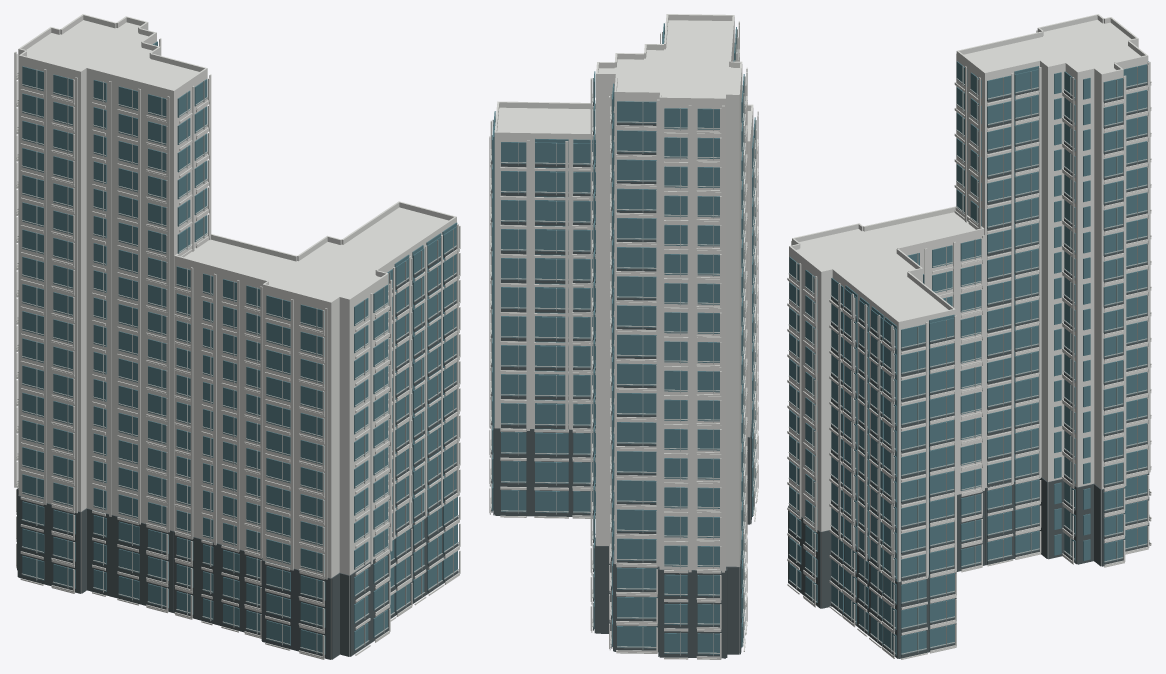
The model's file is bespoke-acro-riverpark-108.glb.
3 views of the same model, side by side, from view 1: azimuth 30°, elevation 25°; view 2: azimuth 150°, elevation 25°; view 3: azimuth 270°, elevation 25° (orthographic). The views are drawn at different scales.
Visible parts, largest first — view 1: 108_R00_glass, 108_R01_body, 108_R01_glass, 108_R00_body, 108_R00_white, 108_R01_white, 108_R00_dark, 108_R00_frame, 108_R01_frame, 108_R01_dark; view 2: 108_R01_glass, 108_R01_body, 108_R00_glass, 108_R01_white, 108_R00_white, 108_R00_body, 108_R01_dark, 108_R01_frame, 108_R00_dark, 108_R00_frame; view 3: 108_R01_glass, 108_R00_glass, 108_R01_body, 108_R00_white, 108_R00_body, 108_R01_white, 108_R01_dark, 108_R00_dark, 108_R00_frame, 108_R01_frame.
Part boxes in pixels (bbox=[...]): 108_R00_glass: bbox=[176, 222, 457, 654]; 108_R01_body: bbox=[18, 20, 207, 592]; 108_R01_glass: bbox=[22, 41, 207, 607]; 108_R00_body: bbox=[174, 207, 456, 659]; 108_R00_white: bbox=[174, 201, 460, 659]; 108_R01_white: bbox=[14, 14, 211, 613]; 108_R00_dark: bbox=[173, 247, 458, 659]; 108_R00_frame: bbox=[176, 229, 458, 654]; 108_R01_frame: bbox=[17, 44, 207, 607]; 108_R01_dark: bbox=[17, 488, 173, 612]; 108_R01_glass: bbox=[593, 23, 744, 654]; 108_R01_body: bbox=[596, 20, 742, 652]; 108_R00_glass: bbox=[492, 111, 755, 516]; 108_R01_white: bbox=[590, 14, 747, 659]; 108_R00_white: bbox=[489, 101, 758, 521]; 108_R00_body: bbox=[494, 107, 753, 523]; 108_R01_dark: bbox=[593, 102, 741, 658]; 108_R01_frame: bbox=[592, 29, 745, 655]; 108_R00_dark: bbox=[491, 160, 752, 524]; 108_R00_frame: bbox=[491, 119, 756, 515]; 108_R01_glass: bbox=[956, 61, 1148, 563]; 108_R00_glass: bbox=[789, 238, 981, 655]; 108_R01_body: bbox=[956, 19, 1148, 565]; 108_R00_white: bbox=[787, 206, 984, 659]; 108_R00_body: bbox=[789, 212, 984, 658]; 108_R01_white: bbox=[954, 14, 1151, 567]; 108_R01_dark: bbox=[985, 83, 1149, 566]; 108_R00_dark: bbox=[788, 296, 984, 658]; 108_R00_frame: bbox=[788, 239, 981, 654]; 108_R01_frame: bbox=[956, 66, 1149, 562].
Size of the model in its own units: 45.89 by 68 by 45.65.
